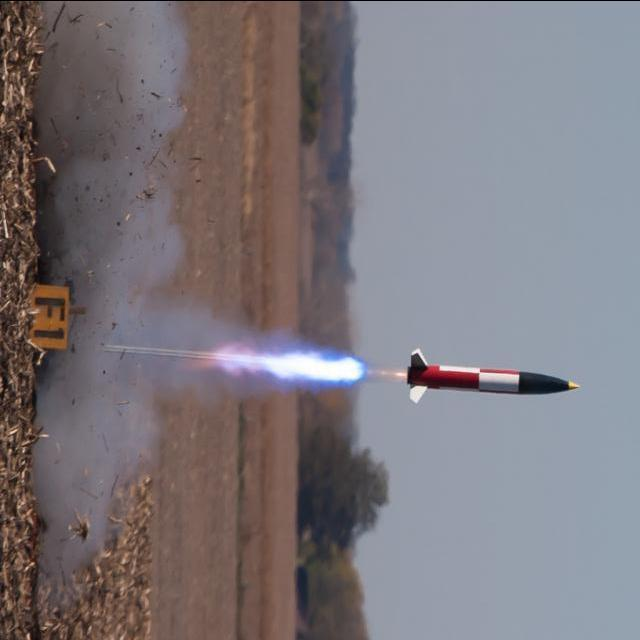missile: (402, 347, 580, 405)
